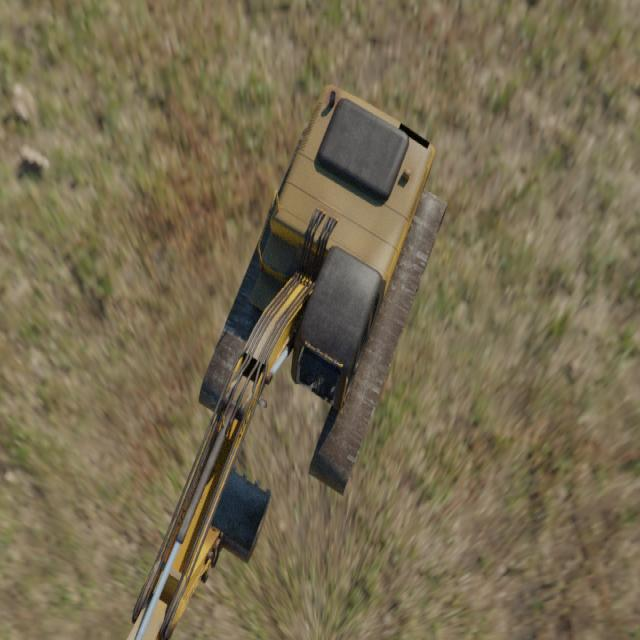excavator: (126, 84, 448, 640)
